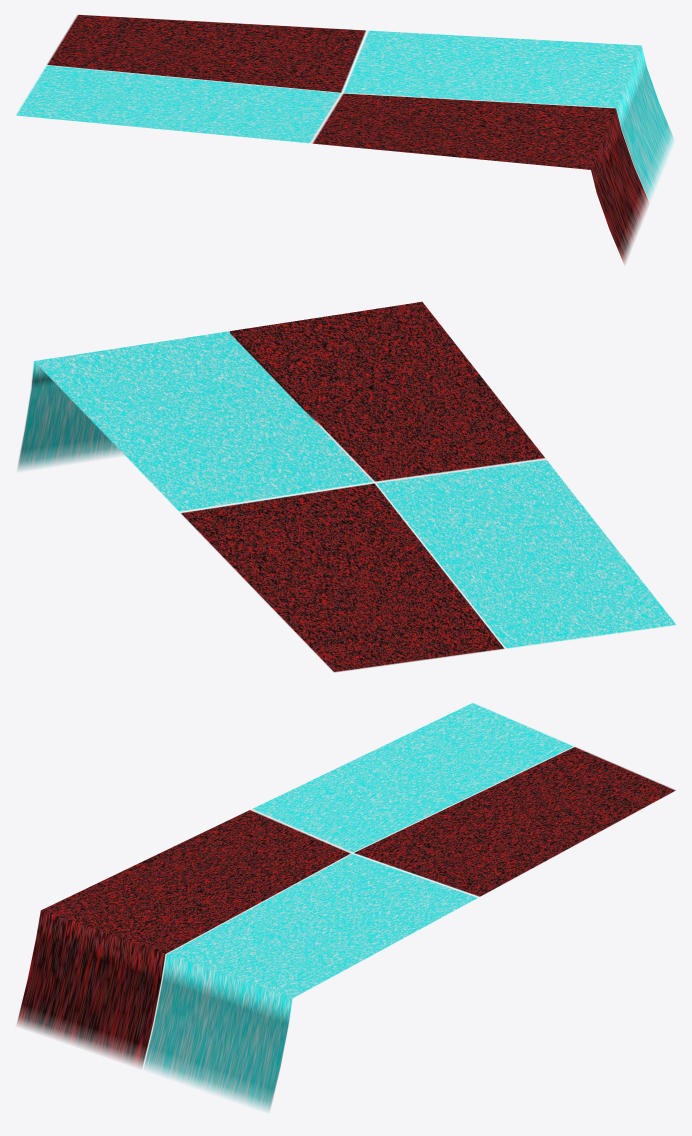
3 views of the same model, one above another, from view 1: azimuth 30°, elevation 25°; view 2: azimuth 150°, elevation 25°; view 3: azimuth 270°, elevation 25° (orthographic). The views are drawn at different scales.
Parts seen in each view (by area): view 1: SM_VFX_GF_River08_LOD0; view 2: SM_VFX_GF_River08_LOD0; view 3: SM_VFX_GF_River08_LOD0.
Part boxes in pixels (x1,y1,x2,y2): SM_VFX_GF_River08_LOD0: (16, 15, 673, 264); SM_VFX_GF_River08_LOD0: (17, 301, 676, 672); SM_VFX_GF_River08_LOD0: (17, 703, 675, 1111).
Size of the model in its own units: 29.64 by 5.12 by 27.1.
